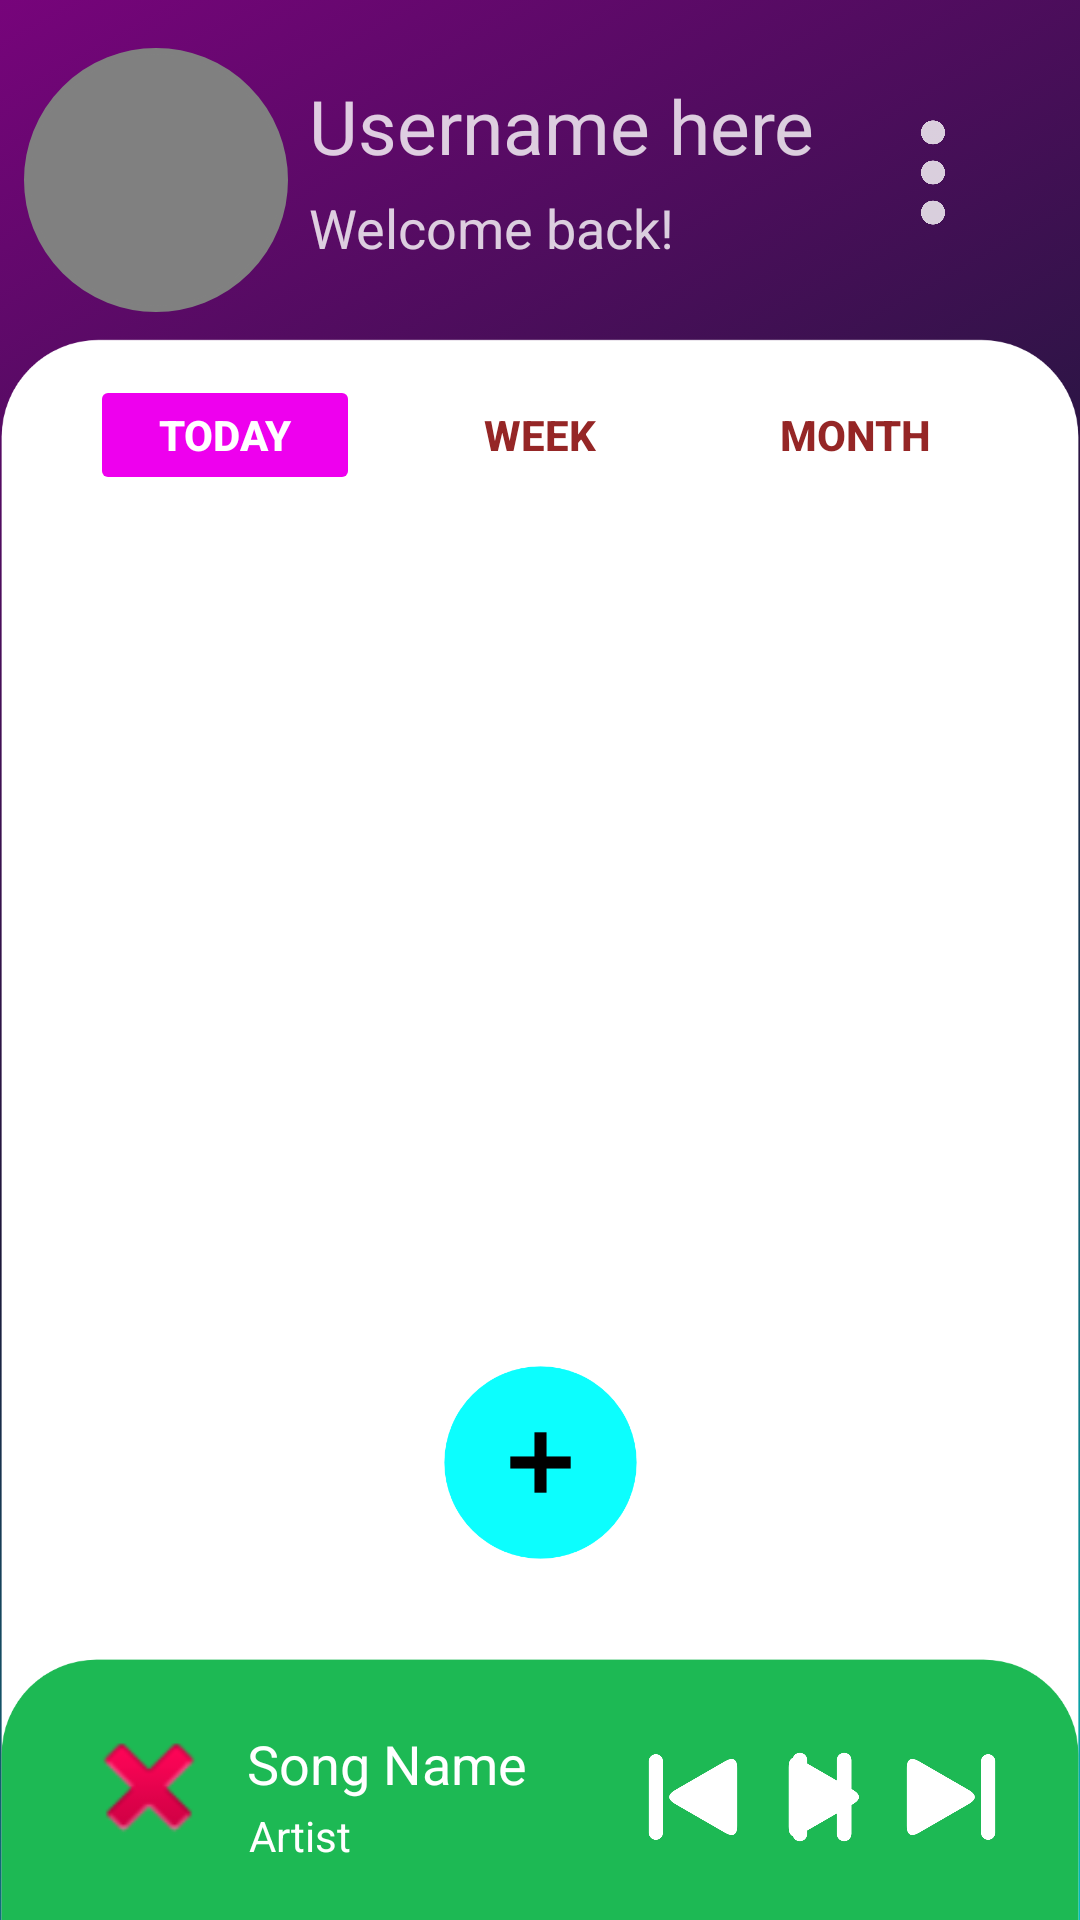

Named icons in this screenshot (1080×1920) and their bounding boxes, detection(x1, y1, x2, y2):
backbtn: detection(648, 1754, 738, 1840)
bluebtn: detection(444, 1366, 637, 1559)
delete: detection(103, 1743, 195, 1832)
dots: detection(921, 120, 945, 225)
